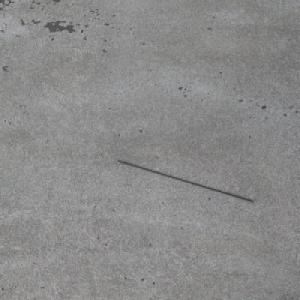LuggagePart: (116, 159, 255, 202)
